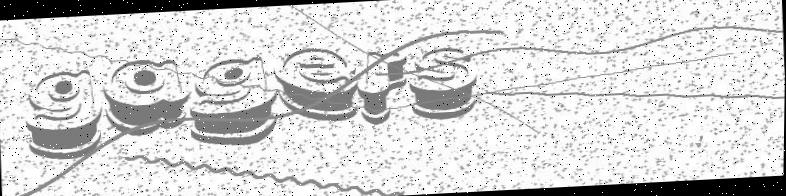a: (102, 58, 191, 137)
e: (274, 47, 360, 124)
g: (186, 57, 279, 148), (23, 69, 105, 161)
r: (355, 52, 409, 125)
s: (408, 47, 478, 121)
